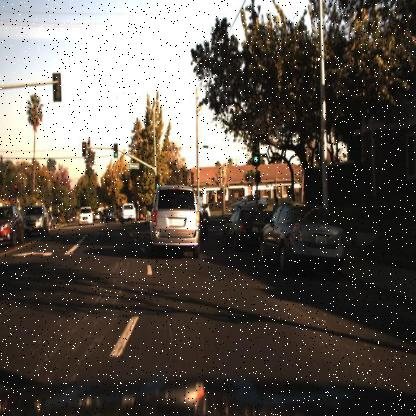car: (259, 204, 352, 274), (147, 181, 203, 258), (220, 210, 271, 251), (23, 205, 52, 235), (234, 192, 269, 212), (121, 199, 137, 226), (78, 204, 96, 226), (102, 203, 120, 224)
trafficLight: (251, 132, 261, 168)
trafficLight-Green: (154, 174, 162, 194), (112, 140, 119, 160)
trafficLight-RedLeft: (80, 138, 88, 162), (12, 180, 20, 200)
